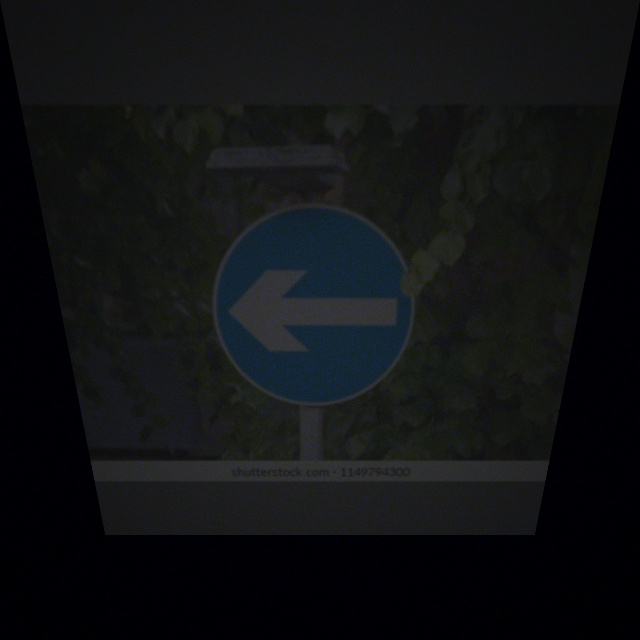Compulsory_Turn_Left: (207, 199, 420, 406)
